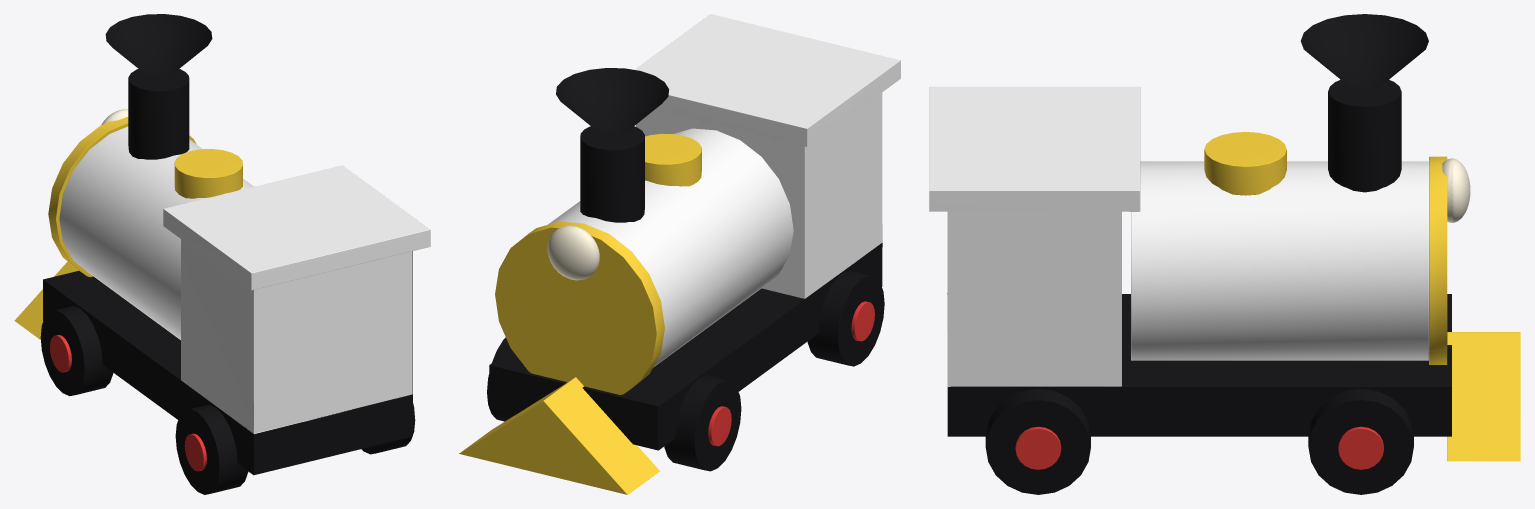
The model's file is locomotive.glb.
3 views of the same model, side by side, from view 1: azimuth 30°, elevation 25°; view 2: azimuth 150°, elevation 25°; view 3: azimuth 270°, elevation 25° (orthographic). The views are drawn at different scales.
Parts seen in each view (by area): view 1: locomotive.001; view 2: locomotive.001; view 3: locomotive.001.
Part boxes in pixels (<box>): locomotive.001: <box>14,14,430,494</box>; locomotive.001: <box>459,14,900,494</box>; locomotive.001: <box>929,14,1520,494</box>.
Size of the model in its own units: 6.1 by 9.55 by 12.9.
